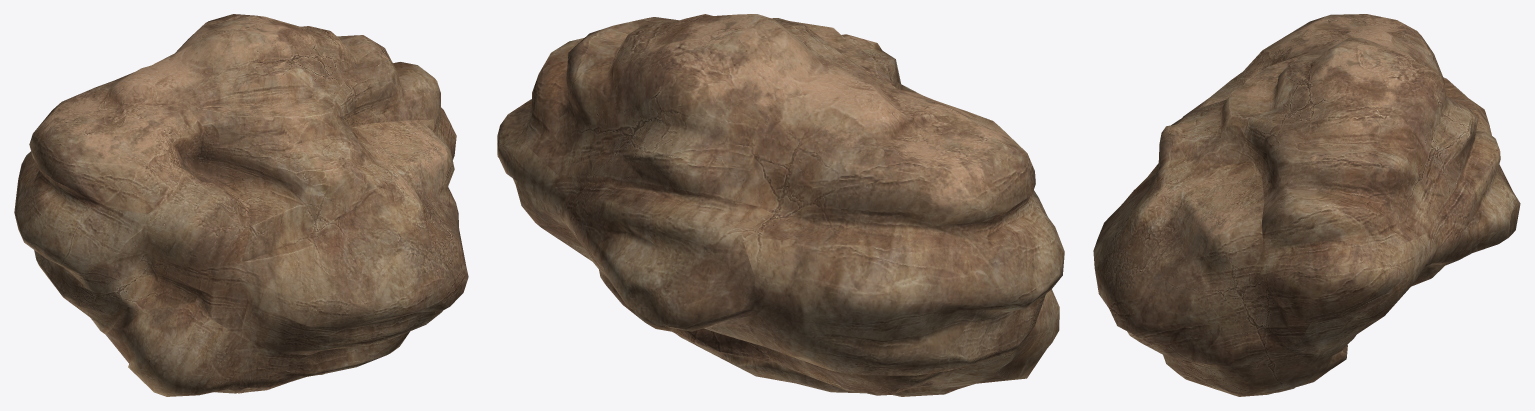
File: rock_medium01.dae
3 views of the same model, side by side, from view 1: azimuth 30°, elevation 25°; view 2: azimuth 150°, elevation 25°; view 3: azimuth 270°, elevation 25° (orthographic). The views are drawn at different scales.
Parts seen in each view (by area): view 1: Mesh; view 2: Mesh; view 3: Mesh.
Boxes of the visible parts, x1,y1,x2,y2 form: Mesh: (14,14,468,396); Mesh: (497,14,1064,396); Mesh: (1093,14,1520,396).
Bounding box in the file's own units: 3.64 × 2.58 × 3.07.
